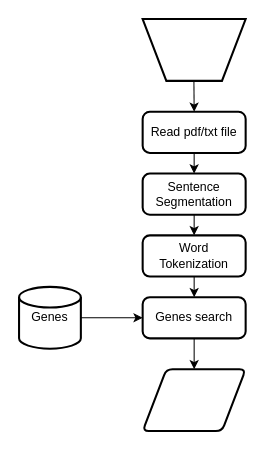
Image size: 264x449. Some labels were removed from this diagram. Each missing label, with the box of its shape:
Gene containing sentences: (141, 368, 246, 432)
Upload Paper: (141, 18, 246, 81)
